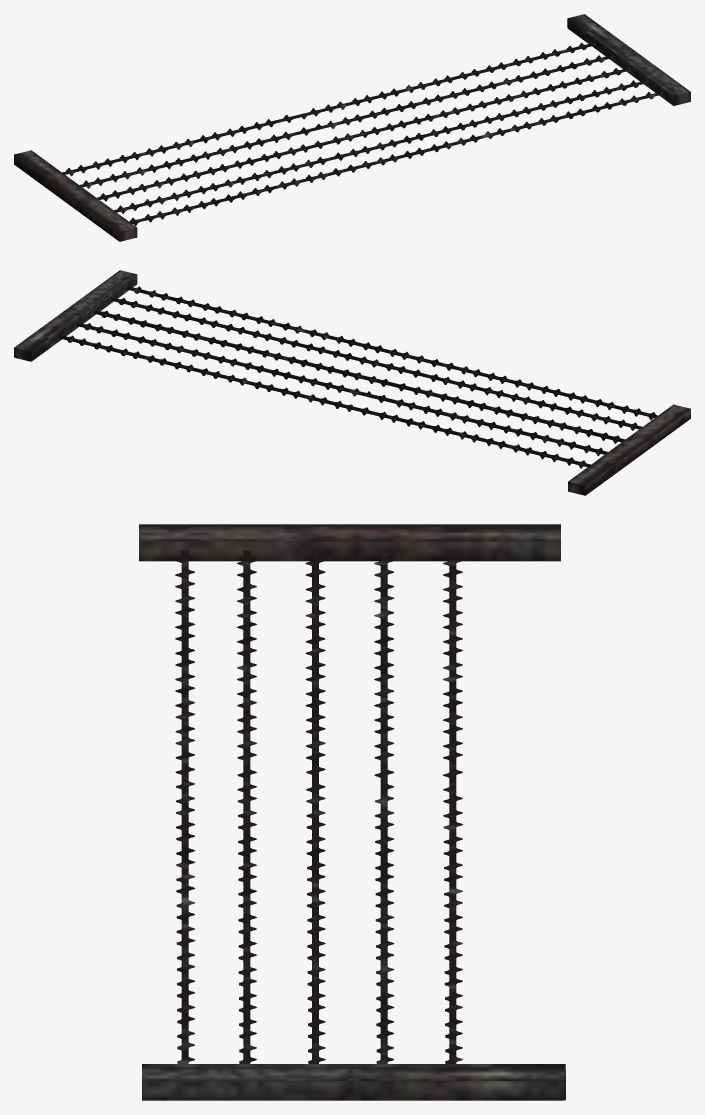
File: SM_EC_BarbwireFence_01.fbx
The picture shows the model from 3 angles, top to bottom: view 1: azimuth 30°, elevation 25°; view 2: azimuth 150°, elevation 25°; view 3: azimuth 270°, elevation 25°; orthographic projection. The views are drawn at different scales.
Parts seen in each view (by area): view 1: SM_EC_BarbwireFence_01; view 2: SM_EC_BarbwireFence_01; view 3: SM_EC_BarbwireFence_01.
Boxes of the visible parts, box(x1,y1,x2,y2) form: SM_EC_BarbwireFence_01: box(14, 14, 690, 241); SM_EC_BarbwireFence_01: box(14, 270, 690, 495); SM_EC_BarbwireFence_01: box(139, 524, 565, 1100).
Size of the model in its own units: 3 by 0.9715 by 0.0609.
